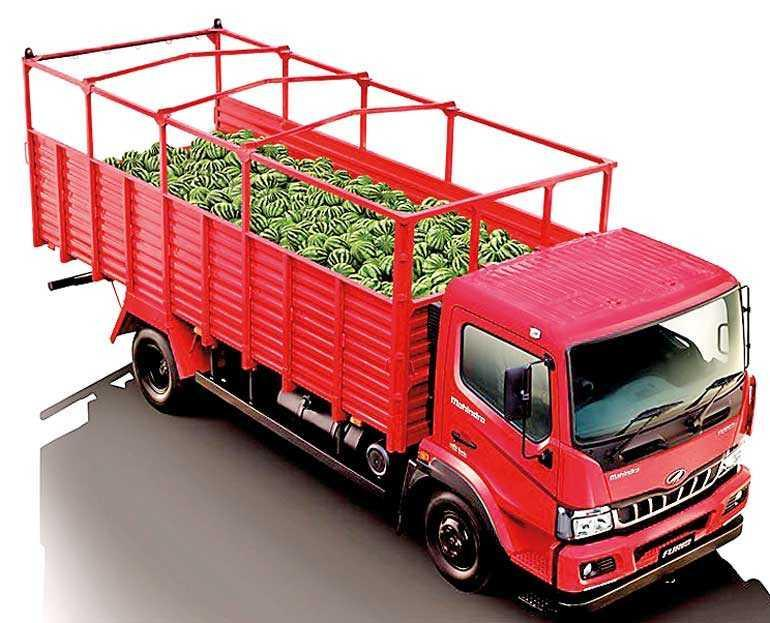truck: (21, 18, 758, 618)
